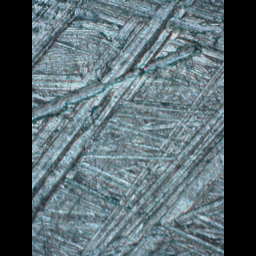d: (32, 0, 178, 236), (77, 64, 224, 255), (32, 0, 88, 70)
